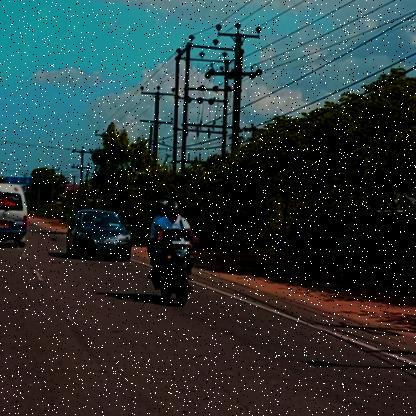motorcycle: (142, 233, 204, 312)
